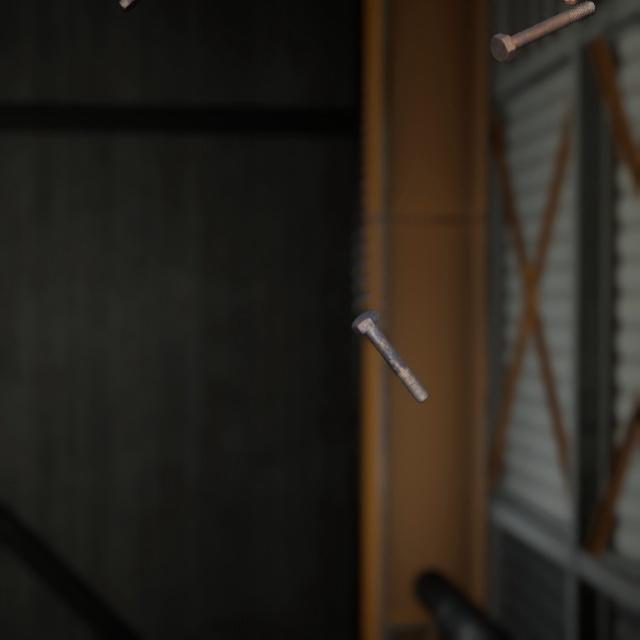bolt: (346, 287, 433, 389), (485, 0, 599, 58)
